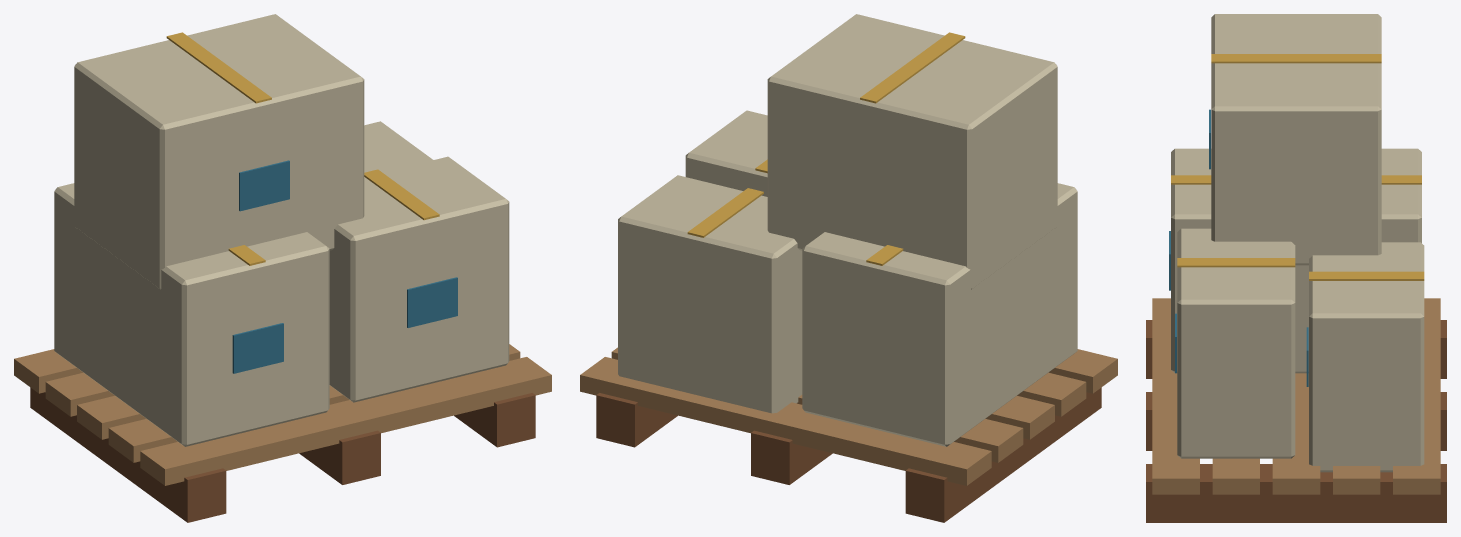
The model's file is cargo_pallet.glb.
3 renders of one model, left to right at view 1: azimuth 30°, elevation 25°; view 2: azimuth 150°, elevation 25°; view 3: azimuth 270°, elevation 25°, orthographic. The views are drawn at different scales.
Parts seen in each view (by area): view 1: cargo_pallet; view 2: cargo_pallet; view 3: cargo_pallet.
Boxes of the visible parts, x1=… form: cargo_pallet: x1=14, y1=14, x2=551, y2=522; cargo_pallet: x1=580, y1=14, x2=1117, y2=522; cargo_pallet: x1=1146, y1=14, x2=1446, y2=522.
Size of the model in its own units: 1.7 by 1.56 by 1.2.
